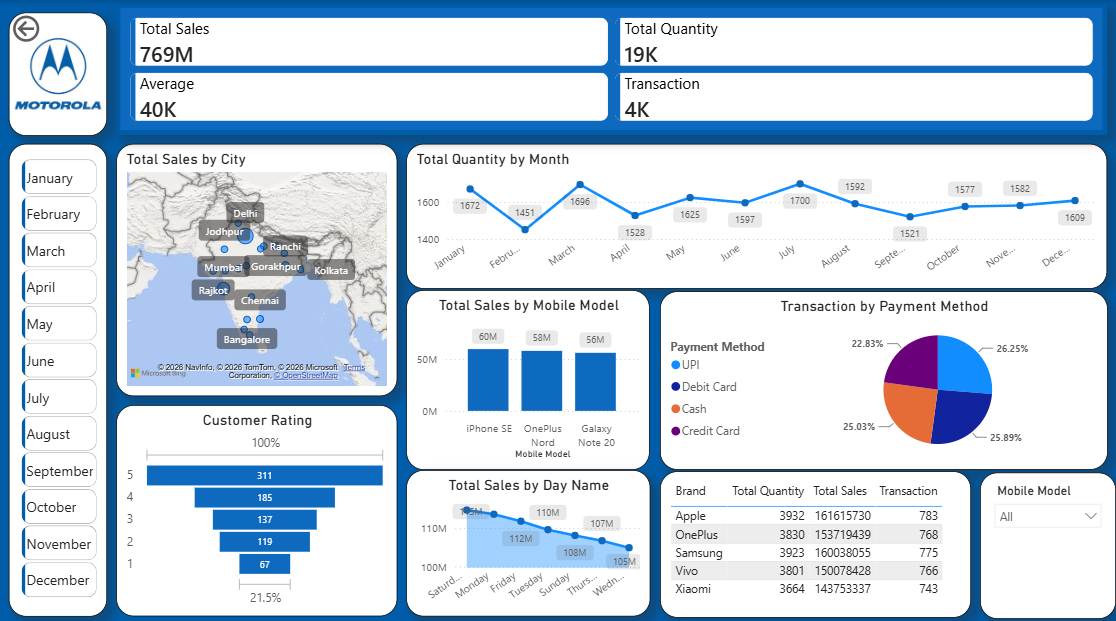

What the dashboard file says about the page in this screenshot:
{"tool":"powerbi","page":{"name":"Page 1","canvas":[1280,720],"ordinal":0},"visuals":[{"type":"shape","box":[9.6,13.7,112.5,141.3],"z":0},{"type":"image","box":[15.1,32.9,101.5,102.9],"z":1000},{"type":"shape","box":[9.6,164.7,112.5,542],"z":2000},{"type":"advancedSlicerVisual","fields":{"Values":["Sales Data.Date.Variation.Date Hierarchy.Month"]},"box":[20.6,178.4,96.1,514.6],"z":3000},{"type":"map","title":"Total Sales by City","fields":{"Category":["Sales Data.City"],"Size":["Sales Data.Total Sales"]},"box":[133.3,164.9,322.6,289.6],"z":5000},{"type":"lineChart","fields":{"Category":["Sales Data.Date.Variation.Date Hierarchy.Month","Sales Data.Date.Variation.Date Hierarchy.Day"],"Y":["Sales Data.Total Quantity"]},"box":[466,164.9,804.3,166.3],"z":6000},{"type":"clusteredColumnChart","fields":{"Category":["Sales Data.Mobile Model"],"Y":["Sales Data.Total Sales"]},"box":[466,332.6,279.6,206.5],"z":7000},{"type":"pieChart","fields":{"Category":["Sales Data.Payment Method"],"Y":["Sales Data.Transaction"]},"box":[757,334.1,513.3,205],"z":8000},{"type":"funnel","title":"Customer Rating","fields":{"Category":["Sales Data.Customer Ratings"],"Y":["CountNonNull(Sales Data.Customer Ratings)"]},"box":[133.3,464.5,322.6,242.3],"z":9000},{"type":"areaChart","fields":{"Category":["Sales Data.Day Name"],"Y":["Sales Data.Total Sales"]},"box":[466,539,280,168],"z":10000},{"type":"tableEx","fields":{"Values":["Sales Data.Brand","Sales Data.Total Quantity","Sales Data.Total Sales","Sales Data.Transaction"]},"box":[757,540.5,357,167.7],"z":11000},{"type":"actionButton","box":[10,12.9,100,40],"z":12000},{"type":"slicer","fields":{"Values":["Sales Data.Mobile Model"]},"box":[1124,541.9,156.3,167.7],"z":13000},{"type":"cardVisual","fields":{"Data":["Sales Data.Total Sales","Sales Data.Total Quantity","Sales Data.Average","Sales Data.Transaction"]},"box":[133.3,4.3,1136.9,150.5],"z":13001}]}

Visuals, with their boxes in screenshot pixels (x1, y1, x2, y2), scaled from the page's 1280x720 canvas onto the 1116x621 screenshot:
shape: BBox(8, 12, 106, 134)
image: BBox(13, 28, 102, 117)
shape: BBox(8, 142, 106, 610)
advancedSlicerVisual - Sales Data.Date.Variation.Date Hierarchy.Month: BBox(18, 154, 102, 598)
"Total Sales by City" map: BBox(116, 142, 397, 392)
lineChart - Sales Data.Date.Variation.Date Hierarchy.Month x Sales Data.Date.Variation.Date Hierarchy.Day: BBox(406, 142, 1108, 286)
clusteredColumnChart - Sales Data.Mobile Model x Sales Data.Total Sales: BBox(406, 287, 650, 465)
pieChart - Sales Data.Payment Method x Sales Data.Transaction: BBox(660, 288, 1108, 465)
"Customer Rating" funnel: BBox(116, 401, 397, 610)
areaChart - Sales Data.Day Name x Sales Data.Total Sales: BBox(406, 465, 650, 610)
tableEx - Sales Data.Brand x Sales Data.Total Quantity: BBox(660, 466, 971, 611)
actionButton: BBox(9, 11, 96, 46)
slicer - Sales Data.Mobile Model: BBox(980, 467, 1115, 612)
cardVisual - Sales Data.Total Sales x Sales Data.Total Quantity: BBox(116, 4, 1107, 134)
